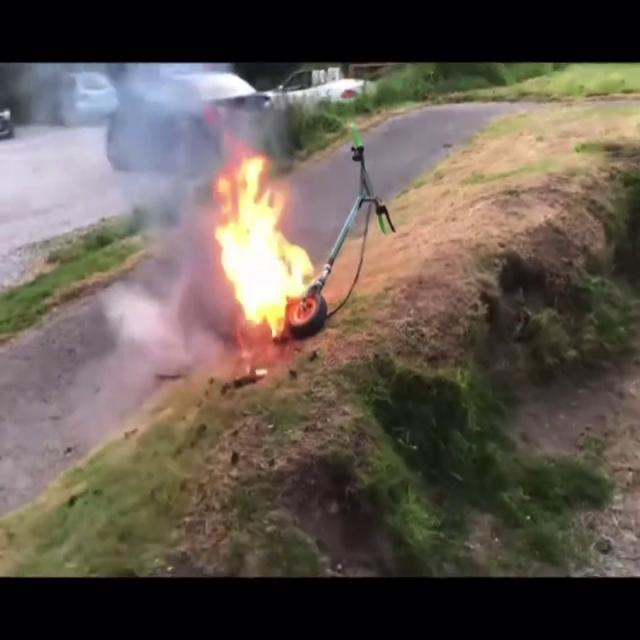Fire: (208, 147, 320, 331)
Smoke: (101, 71, 228, 363)
